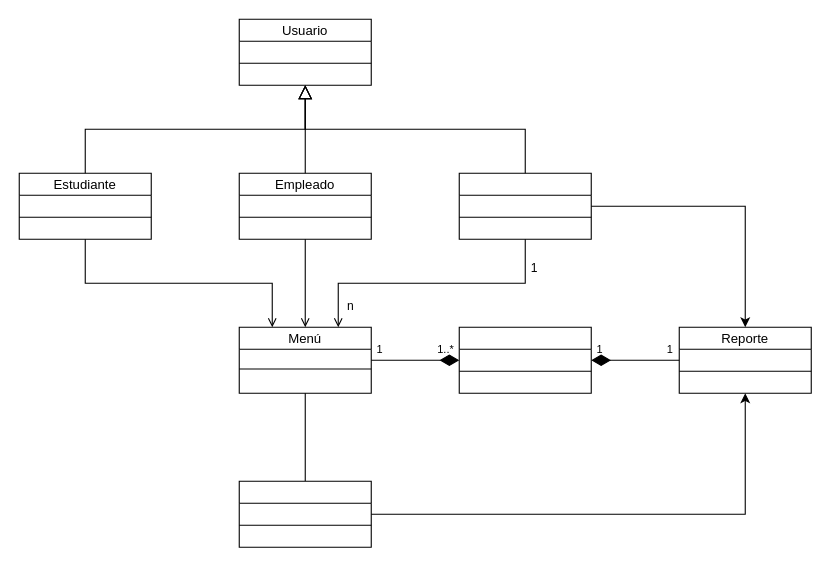
Some shapes in this 831 by 567 pixel diagram are drawn without their labels. The shapes that lost their labels are listed below. From the top down, each one's centre as x and y in pixels, then its label:
At point 524,205: "Administrador".
At point 524,359: "Turno".
At point 304,513: "Insumos".
